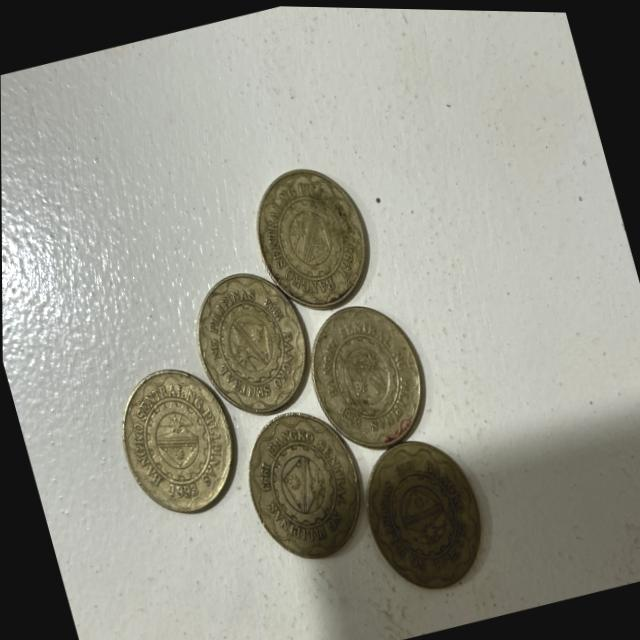5_Old_Back: (235, 153, 379, 320), (107, 362, 249, 527), (183, 258, 316, 423), (239, 405, 372, 566), (356, 436, 486, 596), (305, 302, 432, 456)
